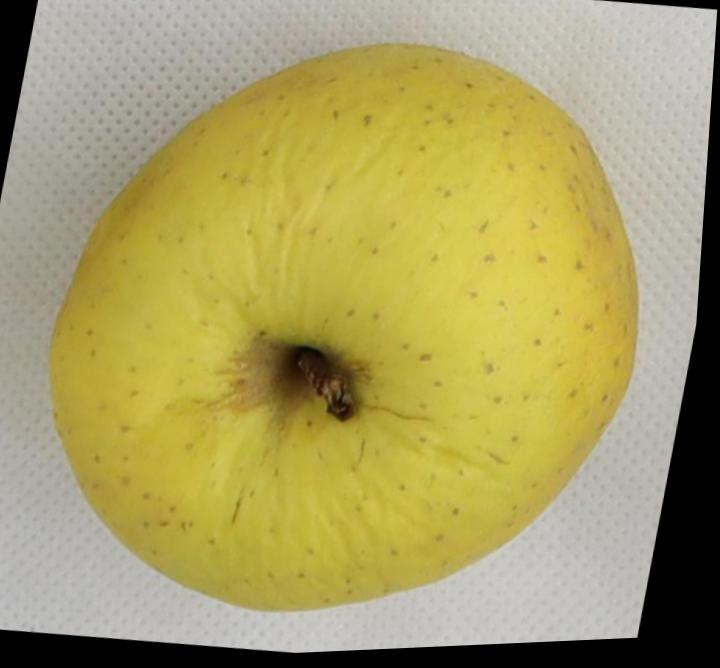apple: (49, 46, 637, 611)
